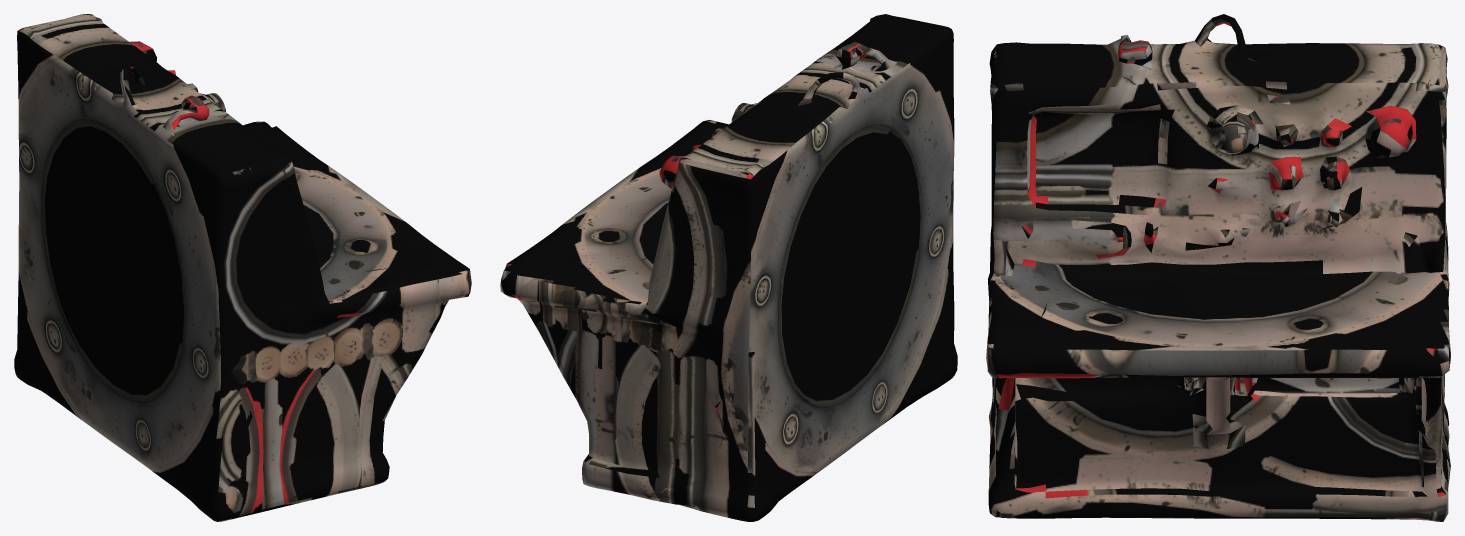
File: console1.fbx
3 renders of one model, left to right at view 1: azimuth 30°, elevation 25°; view 2: azimuth 150°, elevation 25°; view 3: azimuth 270°, elevation 25°, orthographic. The views are drawn at different scales.
Parts seen in each view (by area): view 1: tripo_node_99457d1d; view 2: tripo_node_99457d1d; view 3: tripo_node_99457d1d.
Boxes of the visible parts, <box> form: tripo_node_99457d1d: <box>14,14,471,521</box>; tripo_node_99457d1d: <box>500,14,957,521</box>; tripo_node_99457d1d: <box>986,14,1450,521</box>.
Bounding box in the file's own units: 69.16 × 96.91 × 96.81.
